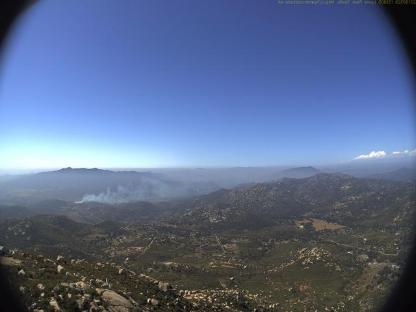smoke: (75, 176, 194, 206)
